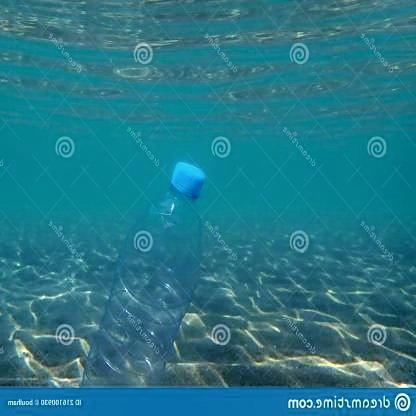pbottle: (83, 153, 209, 387)
